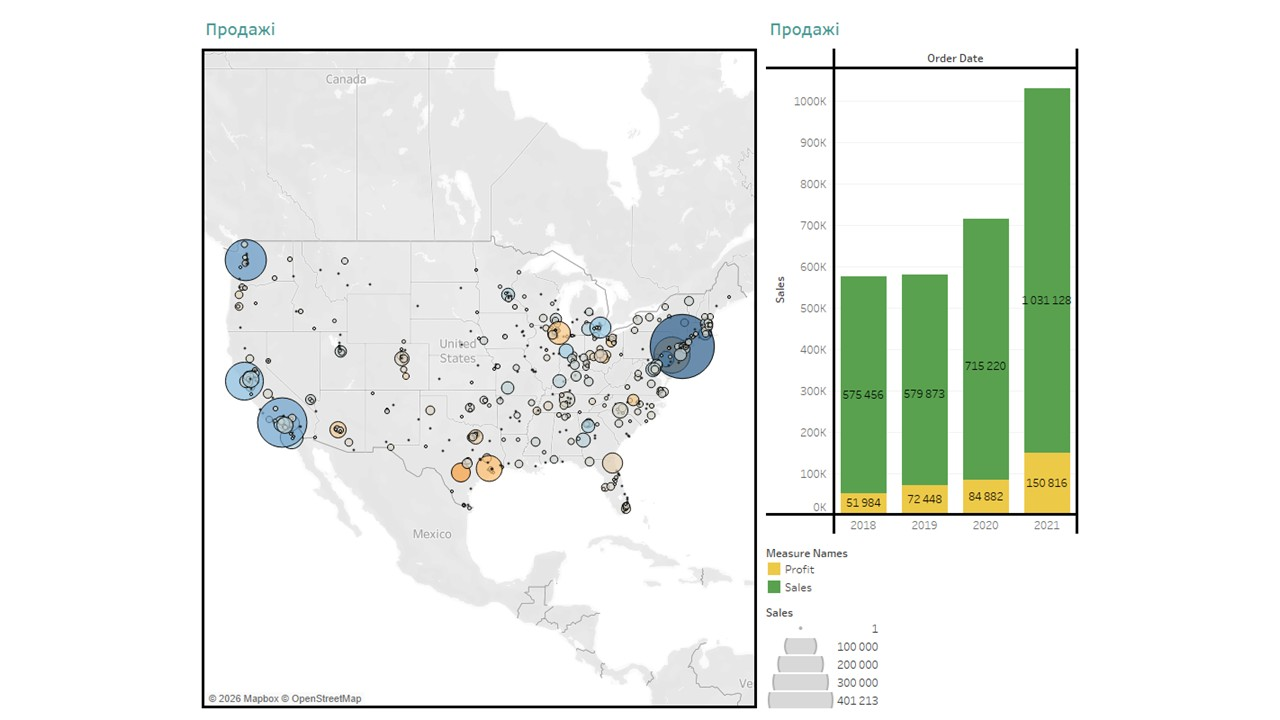

This screenshot's page, from the dashboard's own definition file:
{"tool":"tableau","page":{"name":"Dashboard 1","canvas":[1000,800],"ordinal":0},"visuals":[{"type":"worksheet","title":"DataSet (5)","mark":"Automatic","box":[8,8,627,784]},{"type":"worksheet","title":"DataSet (3)","mark":"Bar","rows":["Sales","Profit"],"cols":["Order Date"],"box":[635,8,357,592]},{"type":"legend","title":"DataSet (3)","param":"[federated.15leef616ht11917ihiai0r8nk6m].[:Measure Names]","box":[635,600,357,66]},{"type":"legend","title":"DataSet (5)","param":"[federated.15leef616ht11917ihiai0r8nk6m].[sum:Sales:qk]","box":[635,666,357,126]}]}

Visuals, with their boxes in screenshot pixels (x1, y1, x2, y2):
"DataSet (5)" worksheet: locate(197, 7, 754, 703)
"DataSet (3)" worksheet (Bar marks): locate(754, 7, 1070, 533)
"DataSet (3)" legend: locate(754, 533, 1070, 591)
"DataSet (5)" legend: locate(754, 591, 1070, 703)
